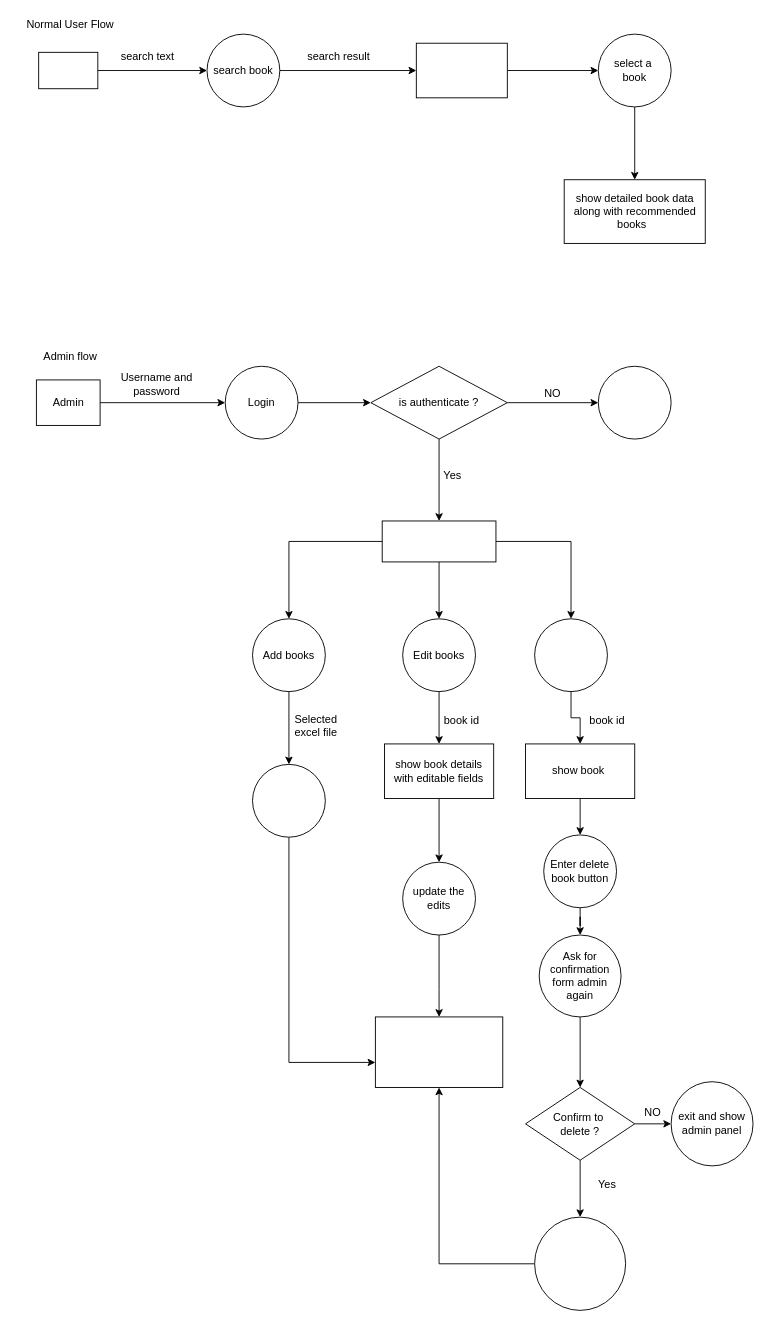
This 769x1326 diagram has some shape labels left out. The centre of each missing label's shape, as x and y in pixels:
"database updated and admin panel shows with new data" belongs at point (438, 1051).
"Delete book" belongs at point (570, 655).
"delete that book entry from database" belongs at point (580, 1263).
"Exit" belongs at point (634, 402).
"Show admin panel" belongs at point (438, 541).
"show results in pages" belongs at point (461, 70).
"upload" belongs at point (288, 800).
"User" belongs at point (68, 70).
